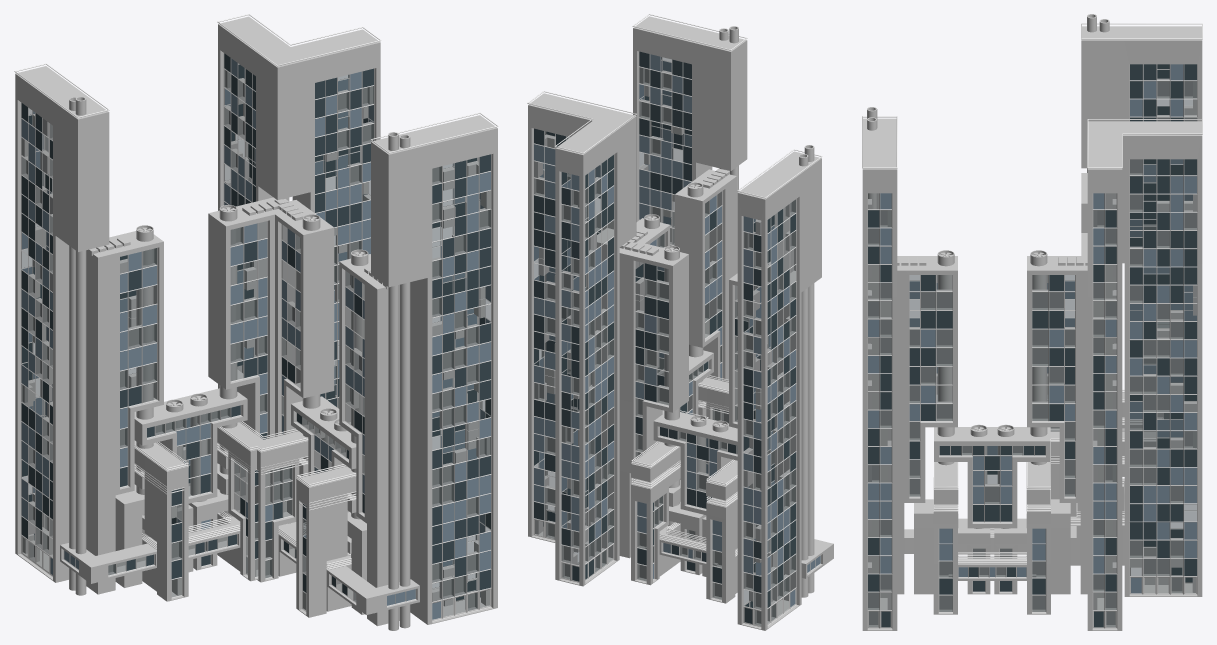
Rendered from building-1.glb.
3 renders of one model, left to right at view 1: azimuth 30°, elevation 25°; view 2: azimuth 150°, elevation 25°; view 3: azimuth 270°, elevation 25°, orthographic. The views are drawn at different scales.
Parts seen in each view (by area): view 1: Box19_01___Default_0_340, glass02_glass_2_0_358, glass02_glass_3_0_359, frame02_Material__82838964_0_356, glass02_glass_0_360, Object198_wal_int_0_373, Object166_glass_88_0_370, Cylinder18_01___Default_0_350, Object198_light_7698_0_372, Cylinder19_01___Default_0_352, Cylinder17_01___Default_0_348, Cylinder21_01___Default_0_354 (+2 smaller); view 2: Box19_01___Default_0_340, glass02_glass_3_0_359, glass02_glass_2_0_358, frame02_Material__82838964_0_356, Object198_wal_int_0_373, Object166_glass_88_0_370, glass02_glass_0_360, Object198_light_7698_0_372, Cylinder19_01___Default_0_352, Cylinder18_01___Default_0_350, Cylinder17_01___Default_0_348, Rectangle30_04___Default_0_387 (+2 smaller); view 3: Box19_01___Default_0_340, glass02_glass_3_0_359, frame02_Material__82838964_0_356, glass02_glass_2_0_358, Object166_glass_88_0_370, Object198_light_7698_0_372, glass02_glass_0_360, Object198_wal_int_0_373, Cylinder17_01___Default_0_348, Rectangle30_04___Default_0_387, Cylinder21_01___Default_0_354, Box20_Material__82838964_0_342.
Boxes of the visible parts, left/top/right/bottom form: Box19_01___Default_0_340: left=15, top=16, right=497, bottom=626; glass02_glass_2_0_358: left=21, top=58, right=490, bottom=619; glass02_glass_3_0_359: left=21, top=53, right=490, bottom=600; frame02_Material__82838964_0_356: left=21, top=53, right=491, bottom=621; glass02_glass_0_360: left=22, top=64, right=490, bottom=616; Object198_wal_int_0_373: left=21, top=69, right=490, bottom=610; Object166_glass_88_0_370: left=22, top=70, right=490, bottom=610; Cylinder18_01___Default_0_350: left=75, top=96, right=398, bottom=630; Object198_light_7698_0_372: left=26, top=83, right=488, bottom=608; Cylinder19_01___Default_0_352: left=69, top=97, right=410, bottom=628; Cylinder17_01___Default_0_348: left=136, top=205, right=368, bottom=557; Cylinder21_01___Default_0_354: left=166, top=393, right=347, bottom=507; Box19_01___Default_0_340: left=528, top=16, right=833, bottom=630; glass02_glass_3_0_359: left=534, top=51, right=795, bottom=623; glass02_glass_2_0_358: left=534, top=54, right=820, bottom=607; frame02_Material__82838964_0_356: left=533, top=51, right=820, bottom=627; Object198_wal_int_0_373: left=534, top=67, right=795, bottom=625; Object166_glass_88_0_370: left=534, top=67, right=795, bottom=625; glass02_glass_0_360: left=534, top=57, right=795, bottom=623; Object198_light_7698_0_372: left=536, top=68, right=791, bottom=623; Cylinder19_01___Default_0_352: left=719, top=28, right=808, bottom=597; Cylinder18_01___Default_0_350: left=729, top=26, right=814, bottom=593; Cylinder17_01___Default_0_348: left=644, top=182, right=703, bottom=526; Rectangle30_04___Default_0_387: left=527, top=14, right=822, bottom=198; Box19_01___Default_0_340: left=862, top=26, right=1202, bottom=630; glass02_glass_3_0_359: left=868, top=64, right=1196, bottom=627; frame02_Material__82838964_0_356: left=867, top=64, right=1197, bottom=628; glass02_glass_2_0_358: left=868, top=64, right=1196, bottom=593; Object166_glass_88_0_370: left=868, top=81, right=1196, bottom=626; Object198_light_7698_0_372: left=868, top=81, right=1196, bottom=624; glass02_glass_0_360: left=868, top=64, right=1196, bottom=609; Object198_wal_int_0_373: left=868, top=78, right=1196, bottom=627; Cylinder17_01___Default_0_348: left=937, top=250, right=1047, bottom=465; Rectangle30_04___Default_0_387: left=862, top=23, right=1202, bottom=168; Cylinder21_01___Default_0_354: left=970, top=424, right=1014, bottom=528; Box20_Material__82838964_0_342: left=897, top=257, right=1087, bottom=265.
Bounding box in the file's own units: 10 × 15.39 × 10.
